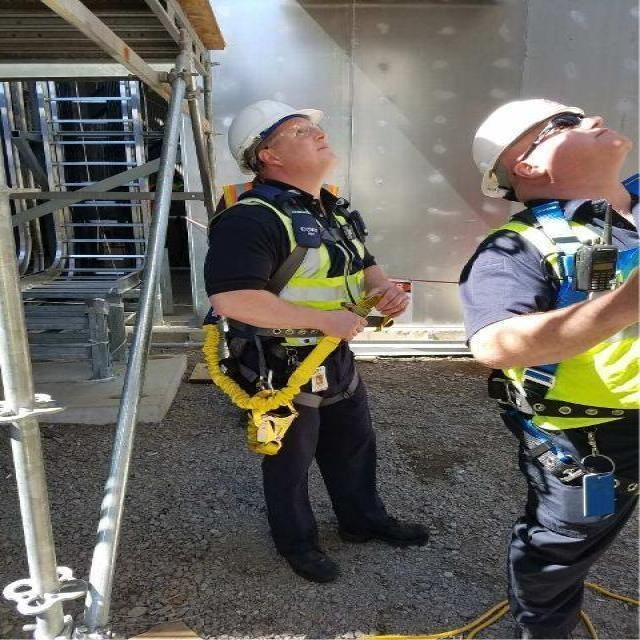Arnes_seguridad: (492, 205, 640, 550), (225, 187, 370, 414)
